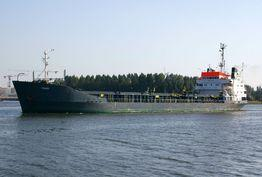Cargoship: (10, 43, 247, 115)
